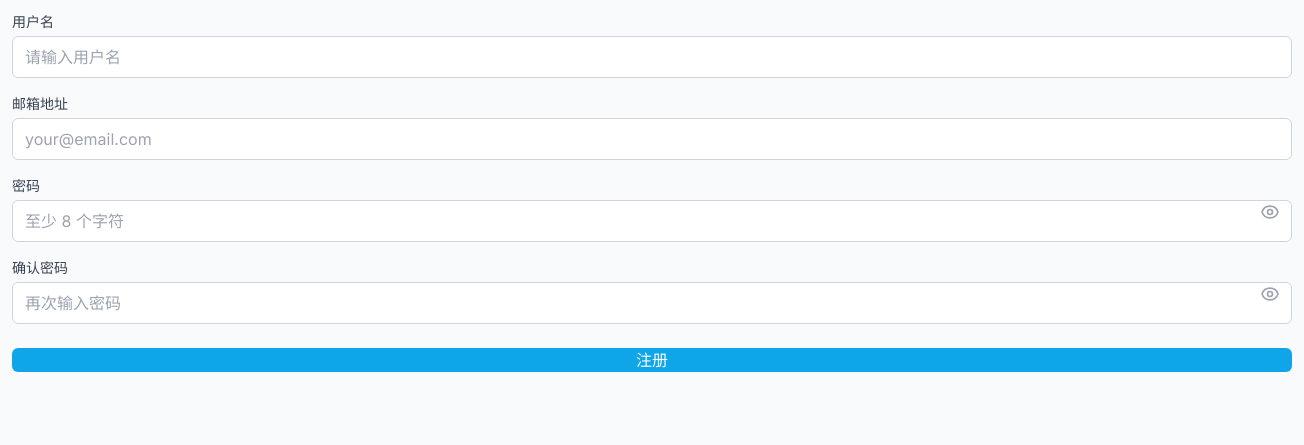
Test: RegisterForm - 表单验证 › 密码不匹配应该显示错误提示
Type "password123" into the password field labelled "密码" at (652, 221), box [12, 200, 1292, 242]
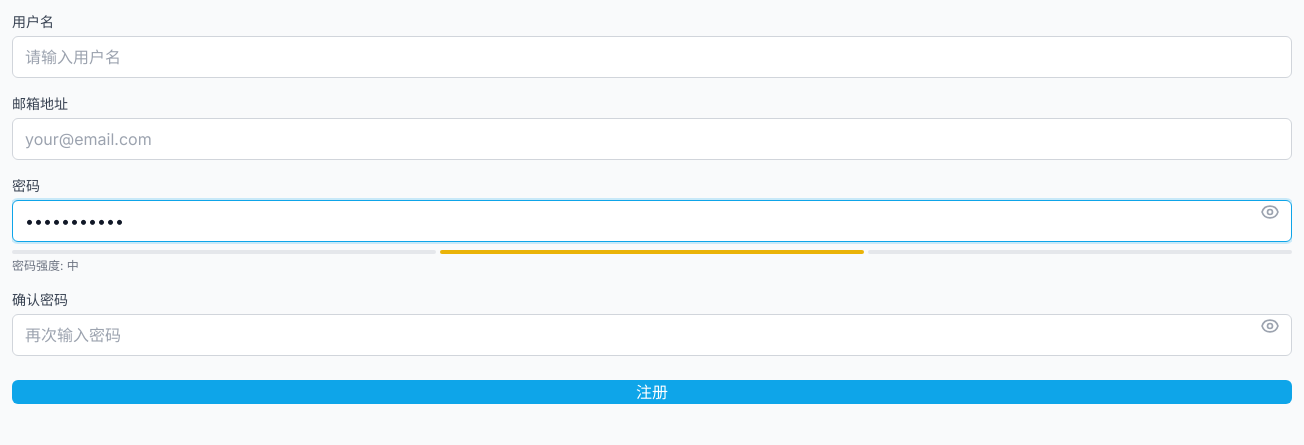
Type "password456" into the password field labelled "确认密码" at (652, 335), box [12, 314, 1292, 356]
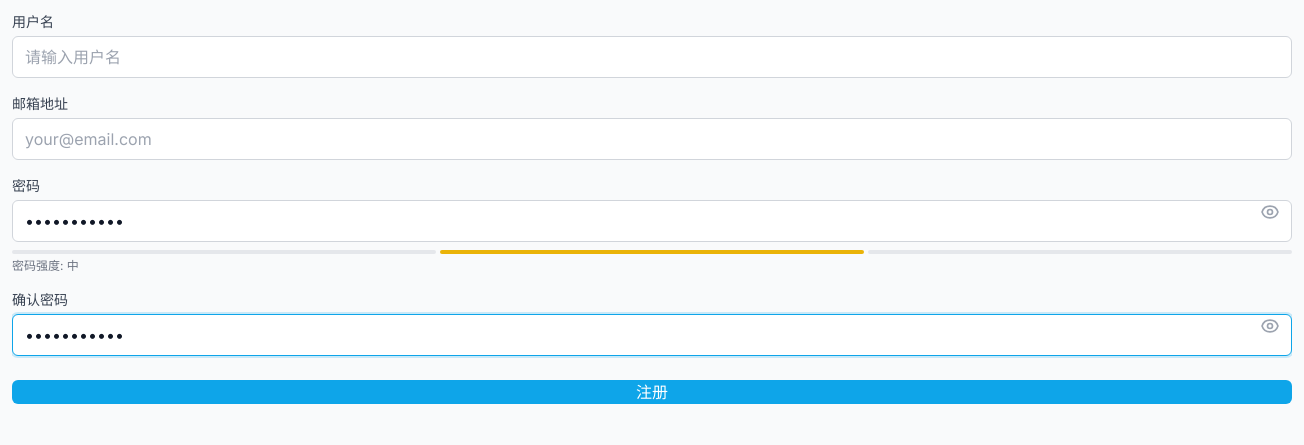
Click the button "注册" at (652, 392), box [12, 380, 1292, 404]
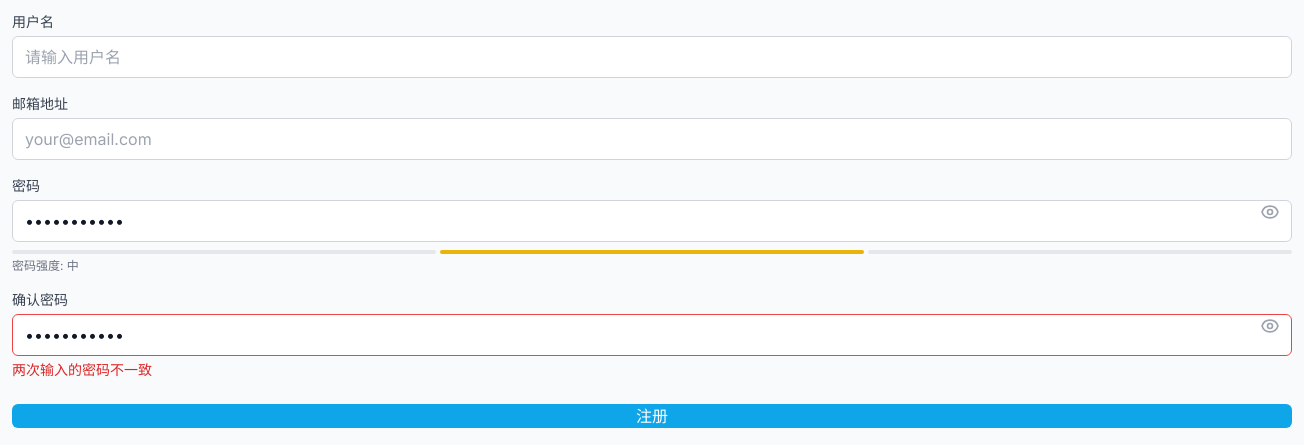
Check: the text "两次输入的密码不一致" is shown, box [12, 361, 152, 378]
